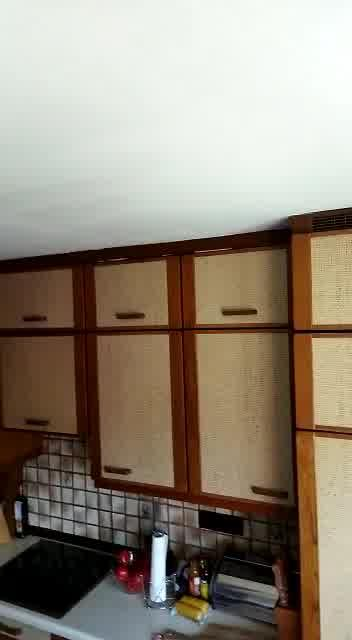cabinet_door: (186, 329, 294, 506), (89, 331, 188, 491), (299, 429, 350, 636), (181, 245, 291, 333), (0, 337, 85, 434), (81, 256, 180, 334), (292, 231, 352, 334), (0, 266, 83, 335), (294, 332, 350, 433)
handle: (248, 481, 291, 506), (219, 299, 261, 323), (113, 304, 148, 325), (101, 461, 134, 481), (20, 309, 48, 328), (24, 413, 53, 431)
